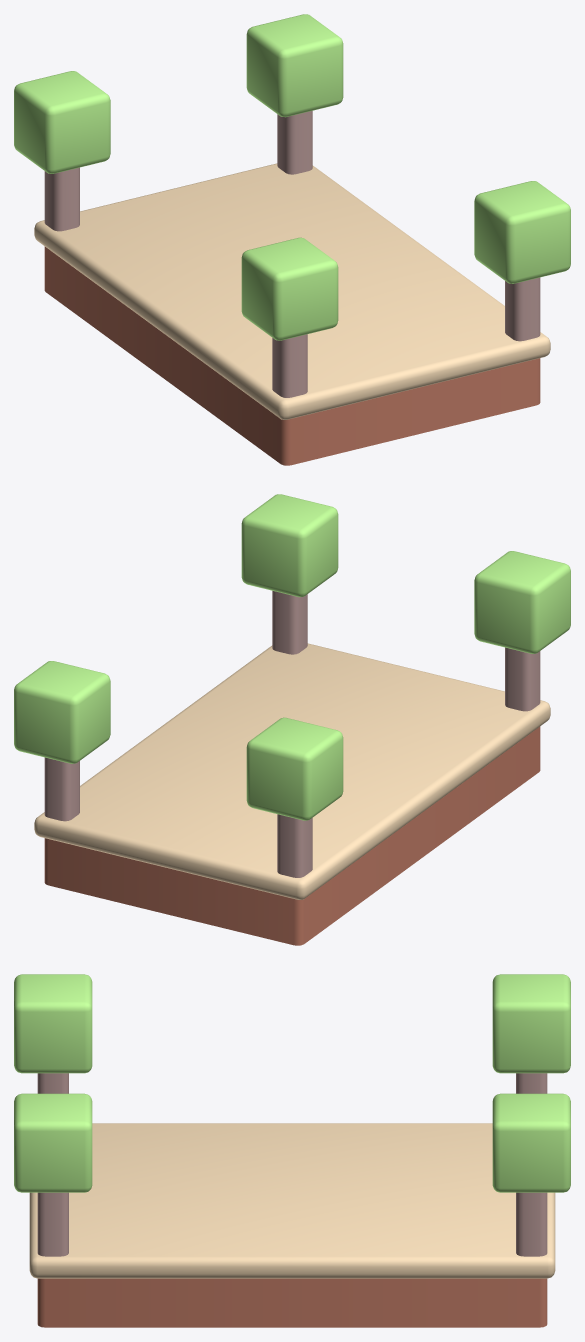
Rendered from GroundLevelSand.fbx.
The picture shows the model from 3 angles, top to bottom: view 1: azimuth 30°, elevation 25°; view 2: azimuth 150°, elevation 25°; view 3: azimuth 270°, elevation 25°; orthographic projection. The views are drawn at different scales.
Parts seen in each view (by area): view 1: GroundLevelSand; view 2: GroundLevelSand; view 3: GroundLevelSand.
Part boxes in pixels (x1,y1,x2,y2): GroundLevelSand: (14, 14, 570, 465); GroundLevelSand: (14, 494, 570, 945); GroundLevelSand: (14, 974, 570, 1327).
Size of the model in its own units: 920 by 600 by 1420.
